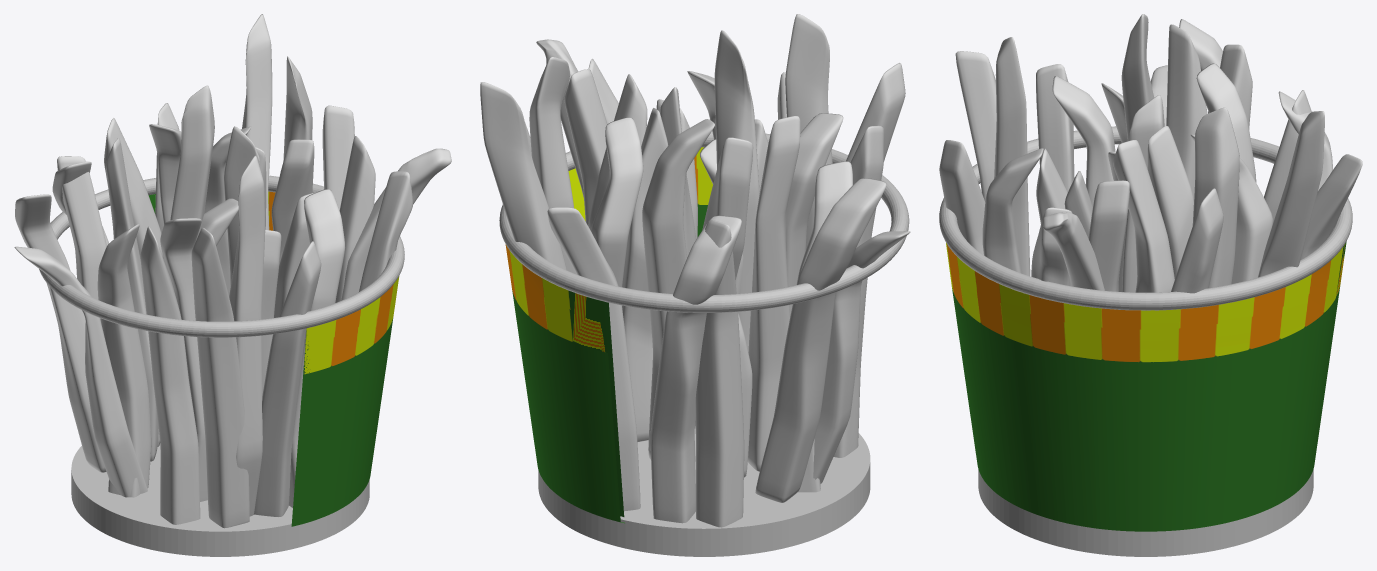
Rendered from french.glb.
3 views of the same model, side by side, from view 1: azimuth 30°, elevation 25°; view 2: azimuth 150°, elevation 25°; view 3: azimuth 270°, elevation 25° (orthographic). The views are drawn at different scales.
Visible parts, largest first — view 1: Cube.004, Cylinder; view 2: Cube.004, Cylinder; view 3: Cylinder, Cube.004.
Boxes of the visible parts, x1=… form: Cube.004: x1=14, y1=14, x2=451, y2=528; Cylinder: x1=39, y1=175, x2=404, y2=556; Cube.004: x1=480, y1=14, x2=910, y2=527; Cylinder: x1=499, y1=131, x2=909, y2=556; Cylinder: x1=939, y1=126, x2=1352, y2=556; Cube.004: x1=939, y1=14, x2=1362, y2=293.
Size of the model in its own units: 2.62 by 2.71 by 2.24.
3 materials, 1 textured.
